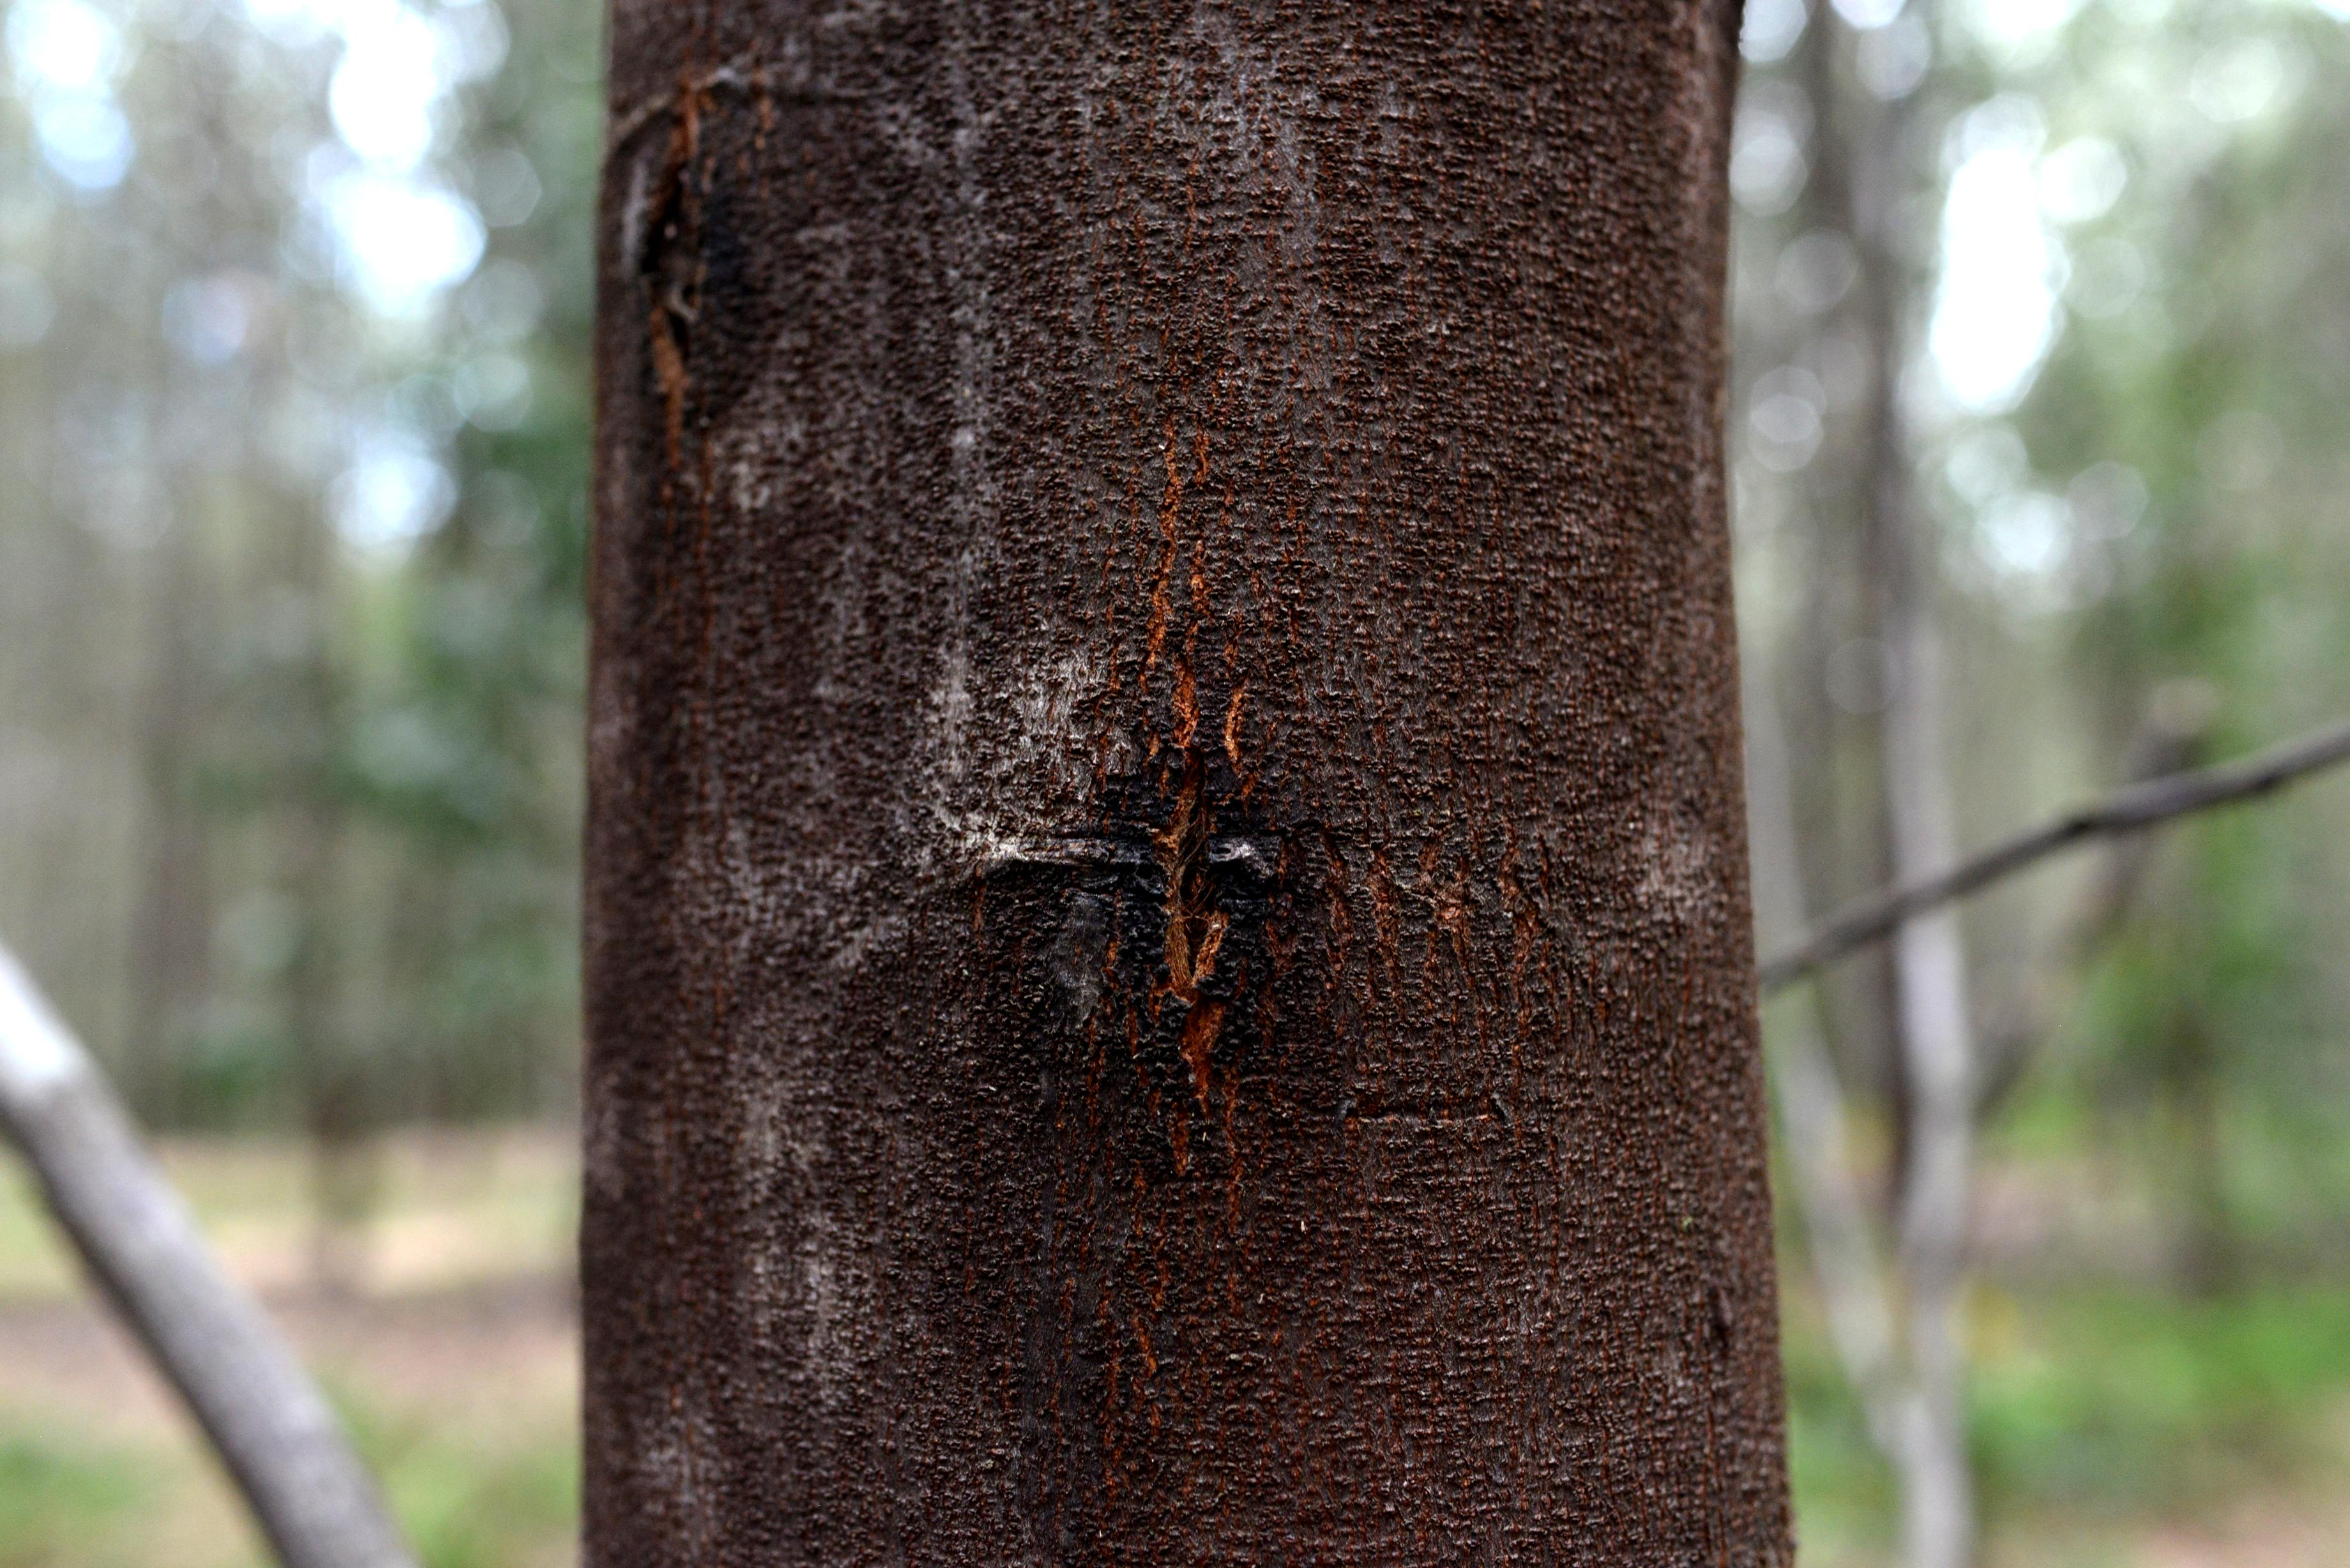Stem Borer: (997, 471, 1332, 1242), (595, 80, 836, 541)
